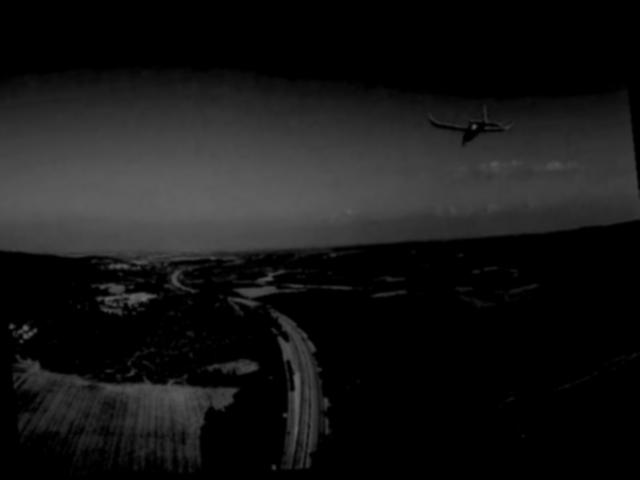hedef: (414, 97, 530, 164)
